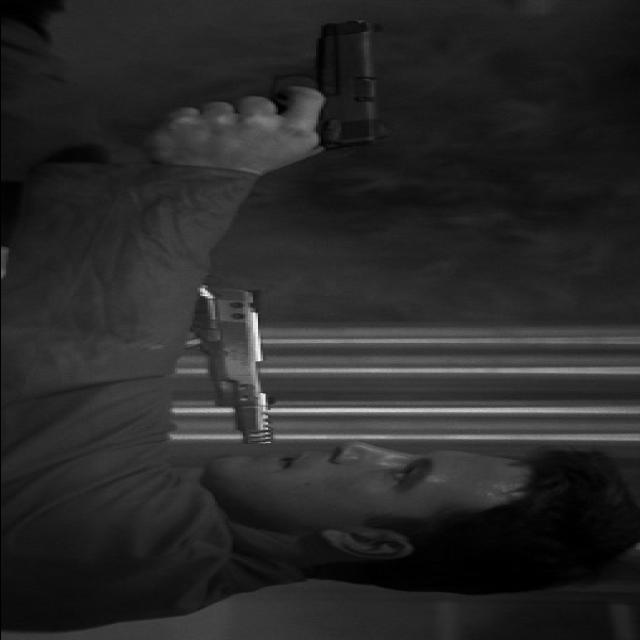weapons: (147, 10, 416, 158), (162, 269, 298, 451)
